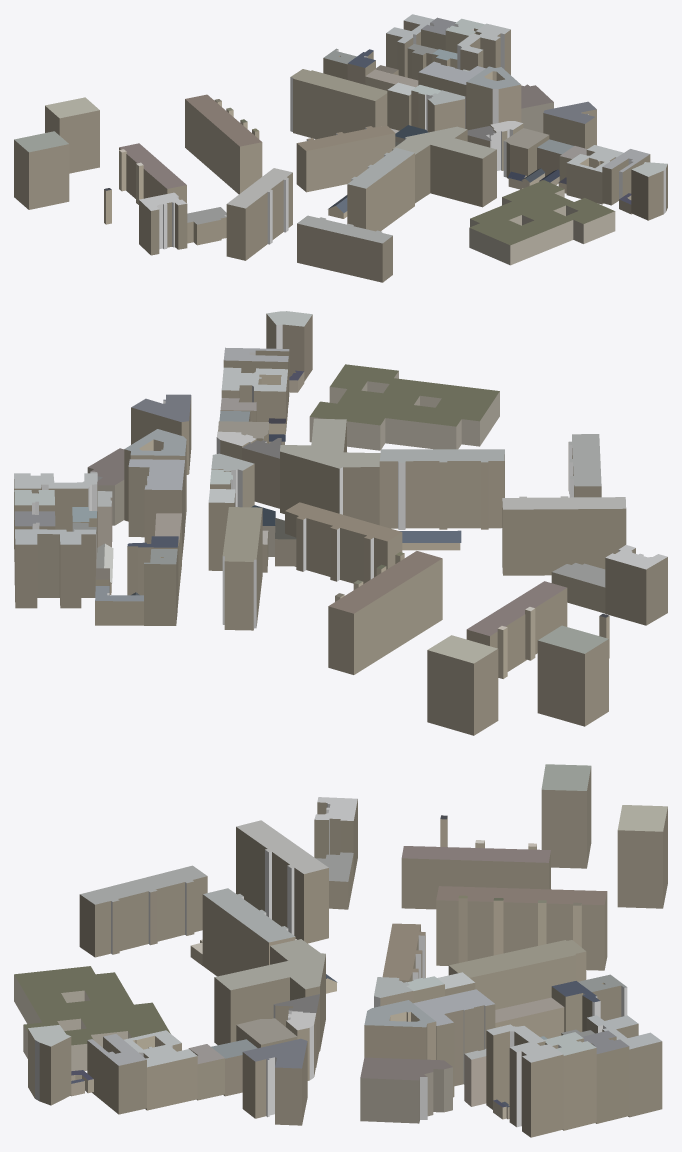
3 renders of one model, top to bottom at view 1: azimuth 30°, elevation 25°; view 2: azimuth 150°, elevation 25°; view 3: azimuth 270°, elevation 25°, orthographic. The views are drawn at different scales.
Visible parts, largest first — view 1: tuile; view 2: tuile; view 3: tuile.
Boxes of the visible parts, x1=… form: tuile: x1=14, y1=14, x2=667, y2=282; tuile: x1=14, y1=311, x2=667, y2=735; tuile: x1=14, y1=764, x2=667, y2=1137.
Size of the model in its own units: 272 by 39.24 by 240.
